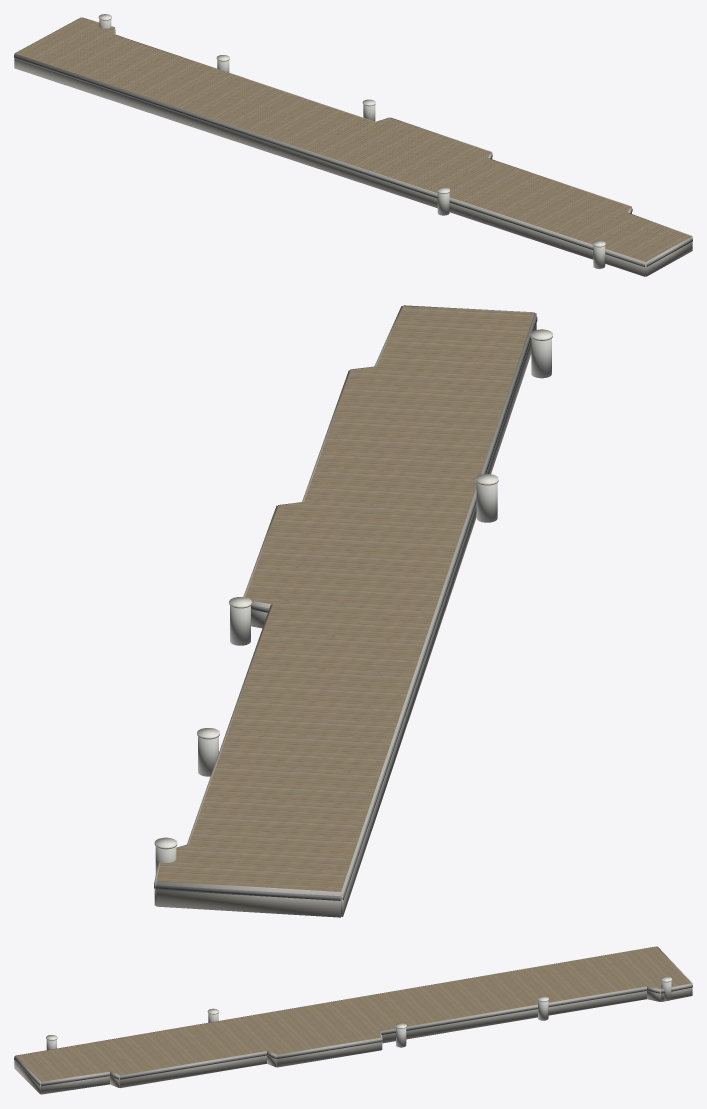
3 views of the same model, one above another, from view 1: azimuth 30°, elevation 25°; view 2: azimuth 150°, elevation 25°; view 3: azimuth 270°, elevation 25° (orthographic). The views are drawn at different scales.
Visible parts, largest first — view 1: Pontoon decking, Landing edges and guides; view 2: Pontoon decking, Landing edges and guides; view 3: Pontoon decking, Landing edges and guides.
Boxes of the visible parts, left/top/right/bottom form: Pontoon decking: left=15, top=17, right=691, bottom=261; Landing edges and guides: left=14, top=14, right=692, bottom=276; Pontoon decking: left=156, top=306, right=534, bottom=891; Landing edges and guides: left=154, top=305, right=552, bottom=917; Pontoon decking: left=15, top=946, right=691, bottom=1081; Landing edges and guides: left=14, top=946, right=692, bottom=1094.
Bounding box in the file's own units: 19.63 × 1.38 × 41.38.
2 materials, 1 textured.
